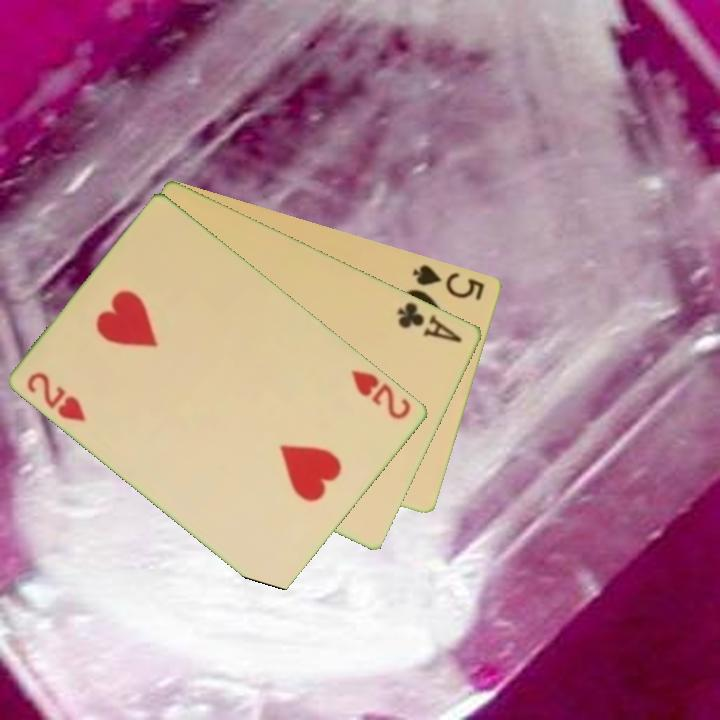2h: (348, 366, 415, 423), (23, 368, 89, 425)
5s: (409, 260, 488, 304)
Ac: (394, 298, 466, 346)
